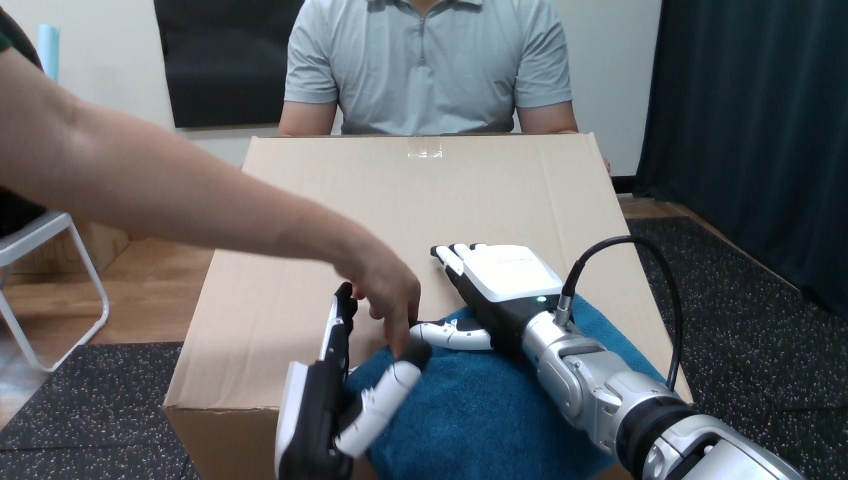left robot hand: (412, 236, 803, 479), (275, 282, 430, 479), (570, 242, 675, 386)
